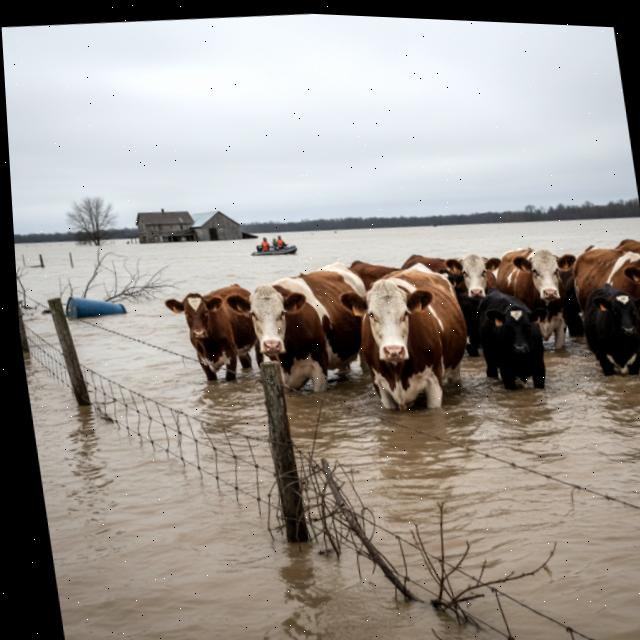cow: (219, 256, 389, 408), (330, 250, 479, 422), (150, 270, 277, 398), (479, 227, 581, 373), (462, 273, 554, 398), (391, 236, 511, 307), (562, 239, 640, 340), (573, 277, 640, 386), (346, 245, 467, 305), (576, 229, 640, 267)
rescuer: (252, 228, 276, 257), (270, 228, 293, 252)
